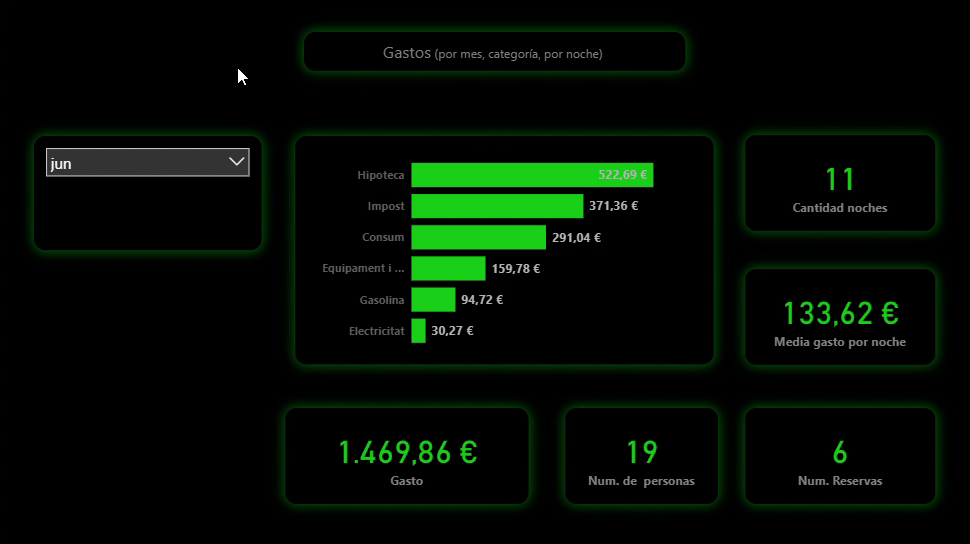

Layout of this report page (visuals, bound fields, positions):
{"tool":"powerbi","page":{"name":"Gastos","canvas":[1280,720],"ordinal":2},"visuals":[{"type":"slicer","title":"Mes","fields":{"Values":["Calendario.Mes"]},"box":[45.9,179.1,298.6,150],"z":0},{"type":"card","fields":{"Values":["Sum(Gastos.Importe)"]},"box":[375.1,535.9,320,125.6],"z":1000},{"type":"textbox","box":[400.7,42,500.6,51.2],"z":2000},{"type":"barChart","fields":{"Y":["Sum(Gastos.Importe)"],"Category":["Gastos.Categoria"]},"box":[388.9,179.1,549.7,300.1],"z":3000},{"type":"card","fields":{"Values":["Medidas.Media gasto por noche"]},"box":[979.9,353.7,249.6,125.6],"z":4000},{"type":"card","fields":{"Values":["Medidas.Num. Reservas"]},"box":[979.9,535.9,249.6,125.6],"z":5000},{"type":"card","fields":{"Values":["Medidas.Cantidad noches"]},"box":[979.9,177.6,249.6,125.6],"z":6000},{"type":"card","fields":{"Values":["Medidas.Cantidad personas"]},"box":[744.1,535.9,200.6,125.6],"z":7000}]}

Visuals, with their boxes in screenshot pixels (x1, y1, x2, y2), scaled from the page's 1280x720 canvas onto the 970x544 screenshot:
"Mes" slicer: box(35, 135, 261, 249)
card - Sum(Gastos.Importe): box(284, 405, 527, 500)
textbox: box(304, 32, 683, 70)
barChart - Sum(Gastos.Importe) x Gastos.Categoria: box(295, 135, 711, 362)
card - Medidas.Media gasto por noche: box(743, 267, 932, 362)
card - Medidas.Num. Reservas: box(743, 405, 932, 500)
card - Medidas.Cantidad noches: box(743, 134, 932, 229)
card - Medidas.Cantidad personas: box(564, 405, 716, 500)
